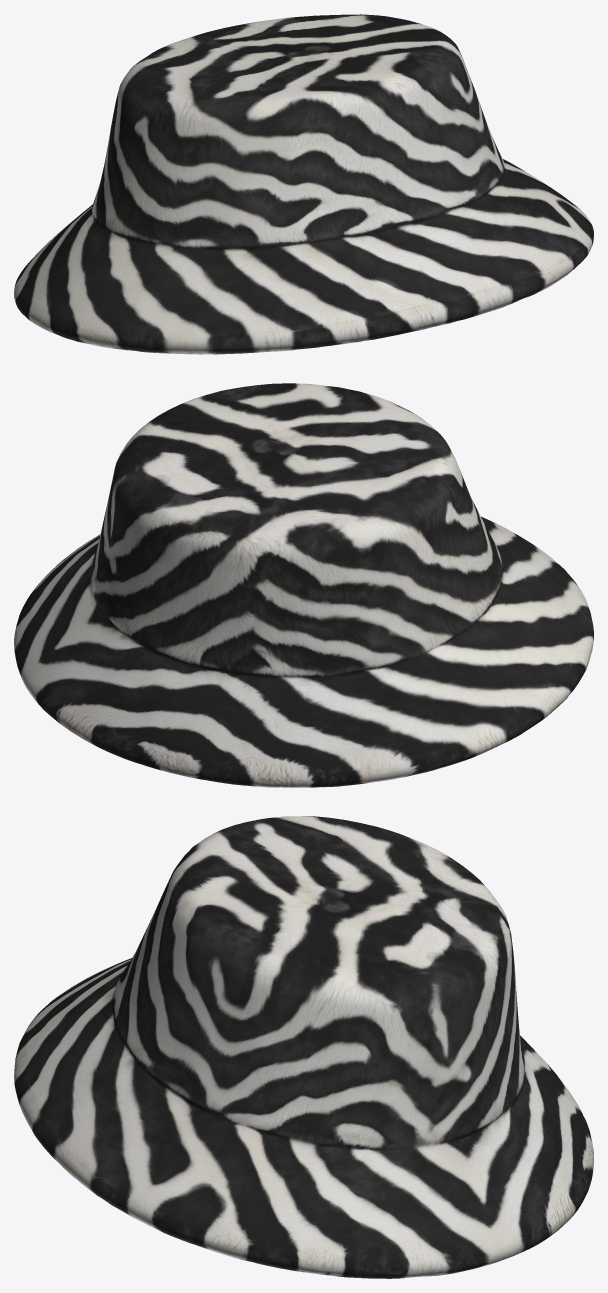
Rendered from Fuzzy-Bucket.glb.
3 views of the same model, one above another, from view 1: azimuth 30°, elevation 25°; view 2: azimuth 150°, elevation 25°; view 3: azimuth 270°, elevation 25° (orthographic). The views are drawn at different scales.
Visible parts, largest first — view 1: Fuzzy-Bucket; view 2: Fuzzy-Bucket; view 3: Fuzzy-Bucket.
Part boxes in pixels (x1,y1,x2,y2): Fuzzy-Bucket: (14,14,593,354); Fuzzy-Bucket: (14,383,593,787); Fuzzy-Bucket: (14,816,593,1278).
Bounding box in the file's own units: 0.7047 × 0.336 × 0.5977.
1 material, 1 textured.
